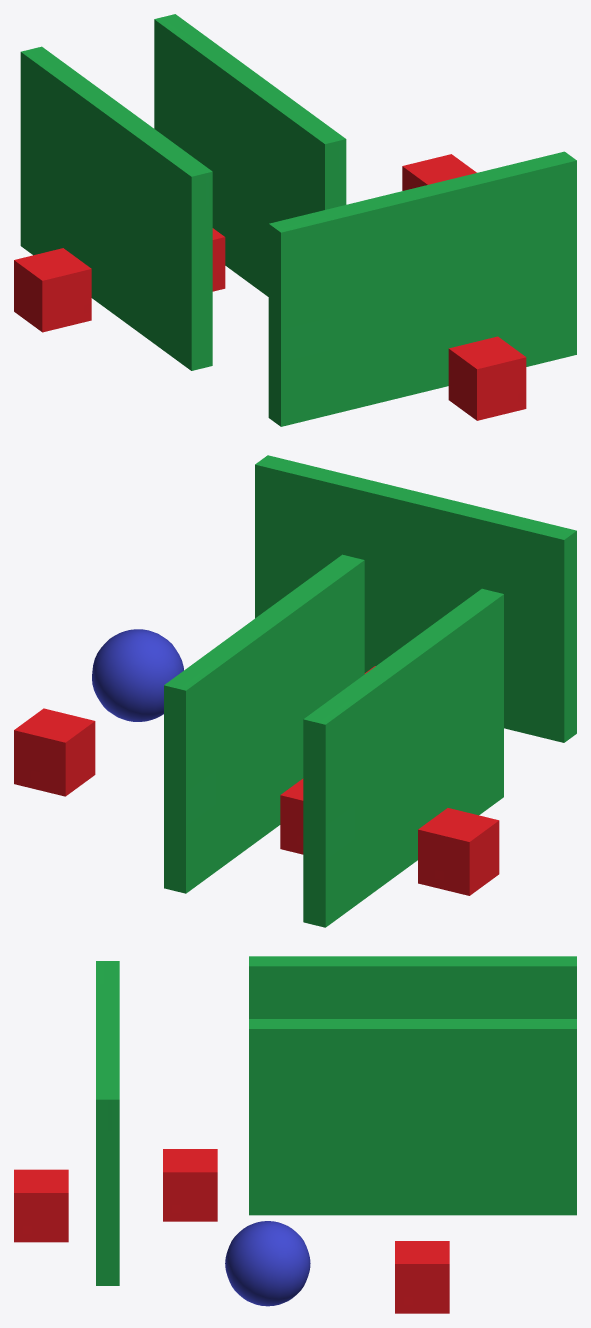
Rendered from BSPTest.dae.
3 views of the same model, one above another, from view 1: azimuth 30°, elevation 25°; view 2: azimuth 150°, elevation 25°; view 3: azimuth 270°, elevation 25° (orthographic). The views are drawn at different scales.
Parts seen in each view (by area): view 1: Plane3, Plane1, Plane2, Inmovil5, Inmovil1, Inmovil3, Inmovil2; view 2: Plane3, Plane1, Plane2, Move, Inmovil3, Inmovil1, Inmovil2; view 3: Plane2, Plane1, Plane3, Move, Inmovil5, Inmovil3, Inmovil4.
Part boxes in pixels (<box>): Plane3: <box>268,151,576,426</box>; Plane1: <box>20,46,212,370</box>; Plane2: <box>154,14,346,296</box>; Inmovil5: <box>448,336,526,420</box>; Inmovil1: <box>14,248,91,332</box>; Inmovil3: <box>402,154,476,190</box>; Inmovil2: <box>212,228,225,291</box>; Plane3: <box>255,455,576,742</box>; Plane1: <box>303,588,503,927</box>; Plane2: <box>164,554,364,893</box>; Move: <box>92,629,183,721</box>; Inmovil3: <box>14,708,95,796</box>; Inmovil1: <box>418,808,499,895</box>; Inmovil2: <box>280,778,303,854</box>; Plane2: <box>249,1019,576,1215</box>; Plane1: <box>249,956,576,1018</box>; Plane3: <box>96,961,119,1285</box>; Move: <box>225,1221,310,1306</box>; Inmovil5: <box>14,1169,68,1242</box>; Inmovil3: <box>395,1241,449,1313</box>; Inmovil4: <box>163,1149,217,1221</box>.
Size of the model in its own units: 18.38 by 7.56 by 20.69.
